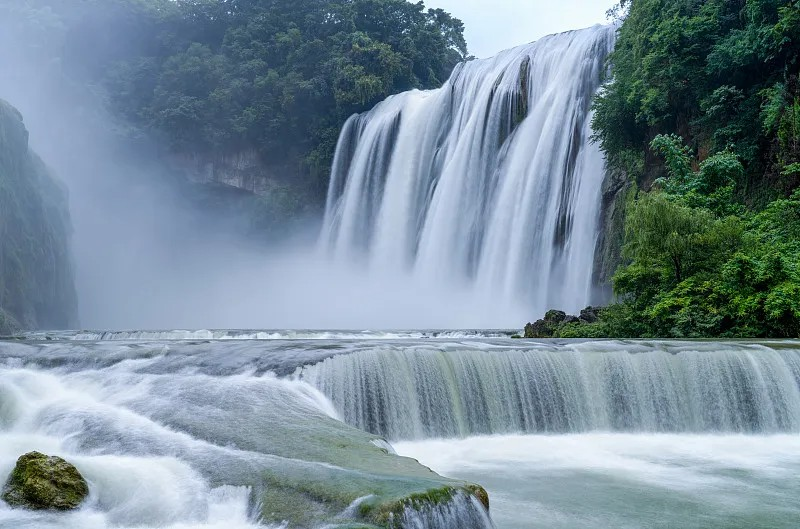Huangguoshu: (316, 20, 608, 329)
